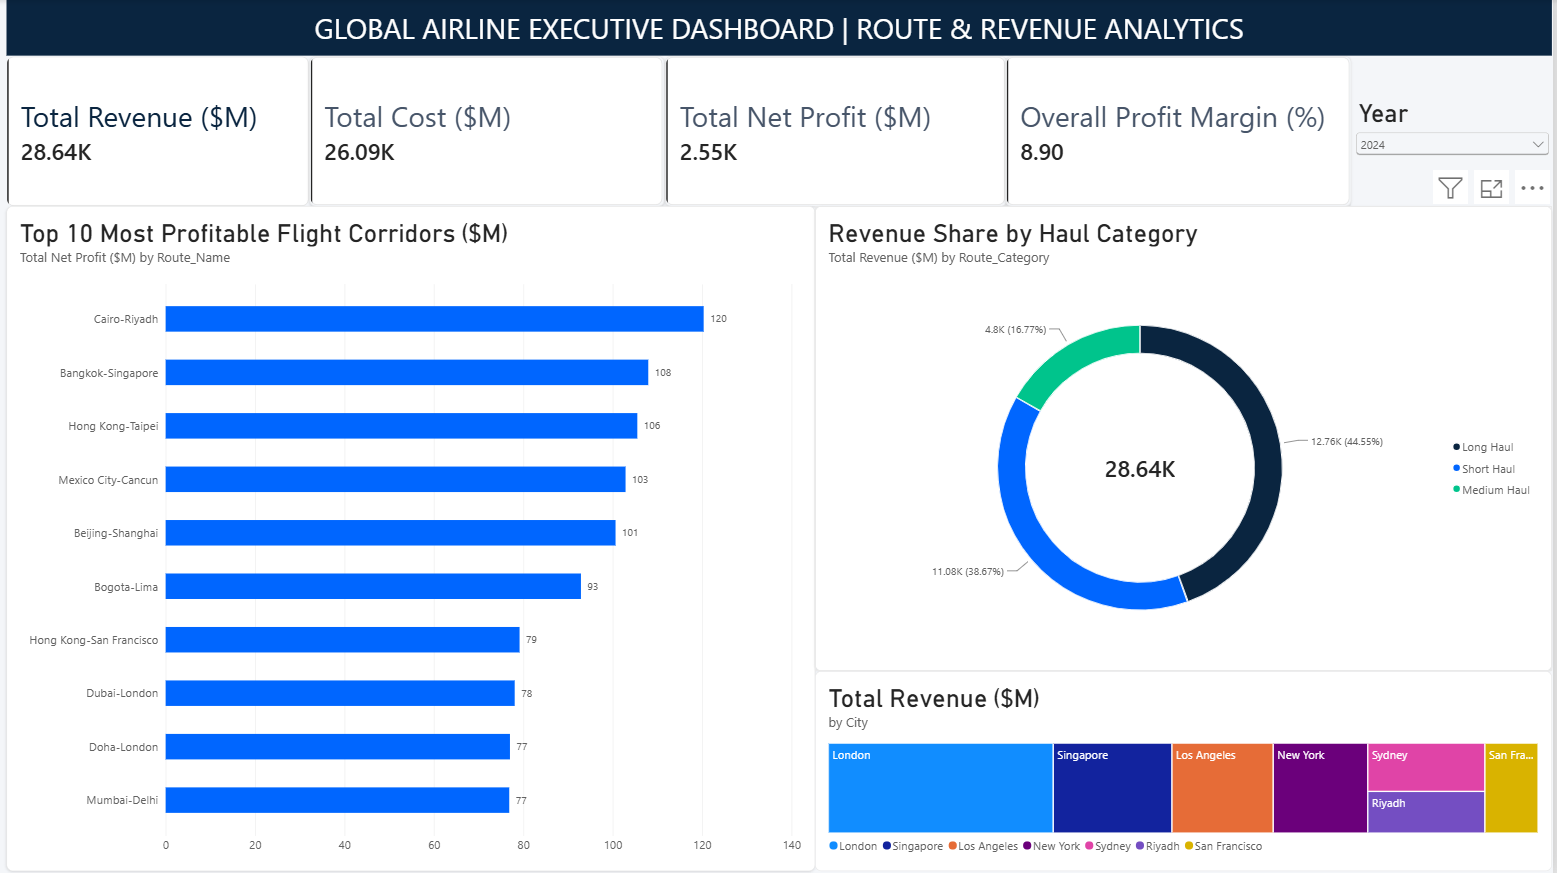

The page's visual inventory and layout, read from the dashboard file:
{"tool":"powerbi","page":{"name":"1. Executive Summary","canvas":[1920,1080],"ordinal":0},"visuals":[{"type":"shape","box":[9.7,0,1909.7,70],"z":0},{"type":"cardVisual","fields":{"Data":["Fact_Route_Performance.Total Revenue ($M)"]},"box":[9.1,70.4,374.8,186.2],"z":1000},{"type":"cardVisual","fields":{"Data":["Fact_Route_Performance.Total Cost ($M)"]},"box":[383.9,70.4,438.4,186.2],"z":2000},{"type":"cardVisual","fields":{"Data":["Fact_Route_Performance.Total Net Profit ($M)"]},"box":[822.2,70.4,422.5,186.2],"z":3000},{"type":"cardVisual","fields":{"Data":["Fact_Route_Performance.Overall Profit Margin (%)"]},"box":[1244.7,70.4,427,186.2],"z":4000},{"type":"clusteredBarChart","title":"Top 10 Most Profitable Flight Corridors ($M)","fields":{"Category":["Dim_Route.Route_Name"],"Y":["Fact_Route_Performance.Total Net Profit ($M)"]},"box":[9.1,256.7,999.4,822.2],"z":5000},{"type":"donutChart","title":"Revenue Share by Haul Category","fields":{"Category":["Dim_Route.Route_Category"],"Y":["Fact_Route_Performance.Total Revenue ($M)"]},"box":[1008.5,256.7,910.8,574.6],"z":6000},{"type":"treemap","fields":{"Group":["Dim_Airport.City"],"Values":["Fact_Route_Performance.Total Revenue ($M)"]},"box":[1008.5,831.3,910.8,247.6],"z":7000},{"type":"slicer","fields":{"Values":["Dim_Date.Year"]},"box":[1671.7,122.7,248,186],"z":8000}]}

Visuals, with their boxes in screenshot pixels (x1, y1, x2, y2), scaled from the page's 1920x1080 canvas onto the 1557x873 screenshot:
shape: rect(8, 0, 1556, 57)
cardVisual - Fact_Route_Performance.Total Revenue ($M): rect(7, 57, 311, 207)
cardVisual - Fact_Route_Performance.Total Cost ($M): rect(311, 57, 667, 207)
cardVisual - Fact_Route_Performance.Total Net Profit ($M): rect(667, 57, 1009, 207)
cardVisual - Fact_Route_Performance.Overall Profit Margin (%): rect(1009, 57, 1356, 207)
"Top 10 Most Profitable Flight Corridors ($M)" clusteredBarChart: rect(7, 207, 818, 872)
"Revenue Share by Haul Category" donutChart: rect(818, 207, 1556, 672)
treemap - Dim_Airport.City x Fact_Route_Performance.Total Revenue ($M): rect(818, 672, 1556, 872)
slicer - Dim_Date.Year: rect(1356, 99, 1556, 250)
